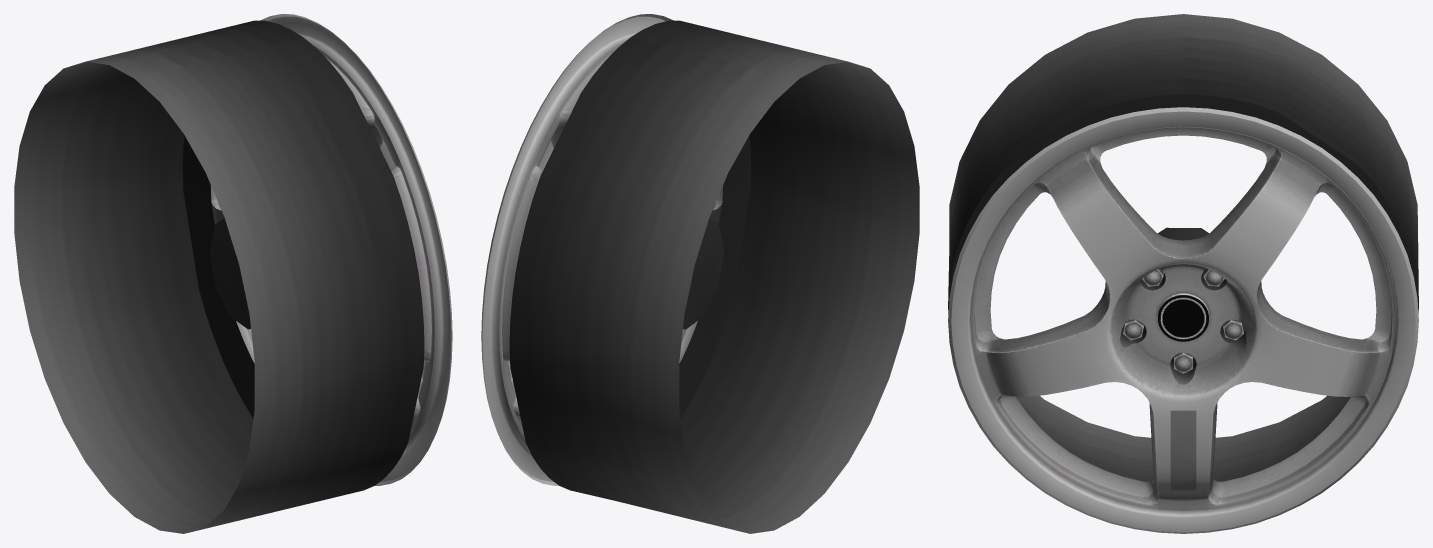
The model's file is wheel42.fbx.
3 views of the same model, side by side, from view 1: azimuth 30°, elevation 25°; view 2: azimuth 150°, elevation 25°; view 3: azimuth 270°, elevation 25° (orthographic). The views are drawn at different scales.
Parts seen in each view (by area): view 1: enk_tarmacevo_wheel_wheel_inner_rim_, wheel_rim, enk_tarmacevo_wheel_wheel_rim_; view 2: enk_tarmacevo_wheel_wheel_inner_rim_, wheel_rim, enk_tarmacevo_wheel_wheel_rim_; view 3: enk_tarmacevo_wheel_wheel_rim_, enk_tarmacevo_wheel_wheel_inner_rim_, wheel_rim, enk_tarmacevo_wheel_wheel_wheel_emblem_, enk_tarmacevo_wheel_wheel_chrome_rim_.
Boxes of the visible parts, left/top/right/bottom form: enk_tarmacevo_wheel_wheel_inner_rim_: left=14, top=20, right=424, bottom=533; wheel_rim: left=218, top=14, right=452, bottom=485; enk_tarmacevo_wheel_wheel_rim_: left=210, top=18, right=452, bottom=481; enk_tarmacevo_wheel_wheel_inner_rim_: left=509, top=20, right=919, bottom=533; wheel_rim: left=481, top=14, right=715, bottom=485; enk_tarmacevo_wheel_wheel_rim_: left=485, top=14, right=723, bottom=485; enk_tarmacevo_wheel_wheel_rim_: left=948, top=109, right=1408, bottom=533; enk_tarmacevo_wheel_wheel_inner_rim_: left=948, top=14, right=1418, bottom=481; wheel_rim: left=948, top=107, right=1418, bottom=533; enk_tarmacevo_wheel_wheel_wheel_emblem_: left=1170, top=410, right=1196, bottom=490; enk_tarmacevo_wheel_wheel_chrome_rim_: left=1122, top=269, right=1244, bottom=373.
Size of the model in its own units: 0.252 by 0.48 by 0.48.
1 material, 1 textured.
